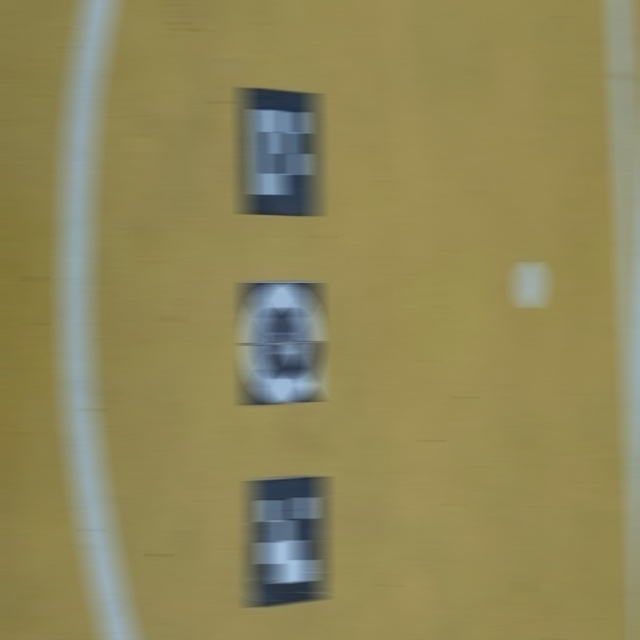landing-zone: (233, 278, 338, 408)
